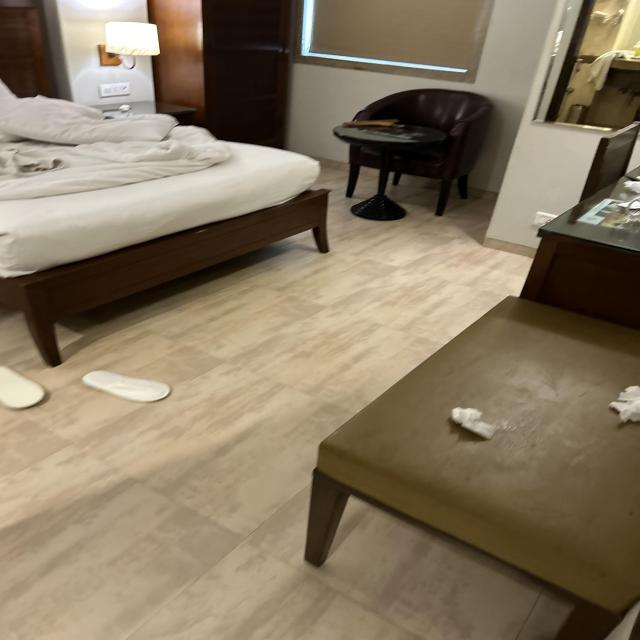mess: (364, 268, 640, 473), (0, 108, 339, 251), (0, 346, 311, 472)
